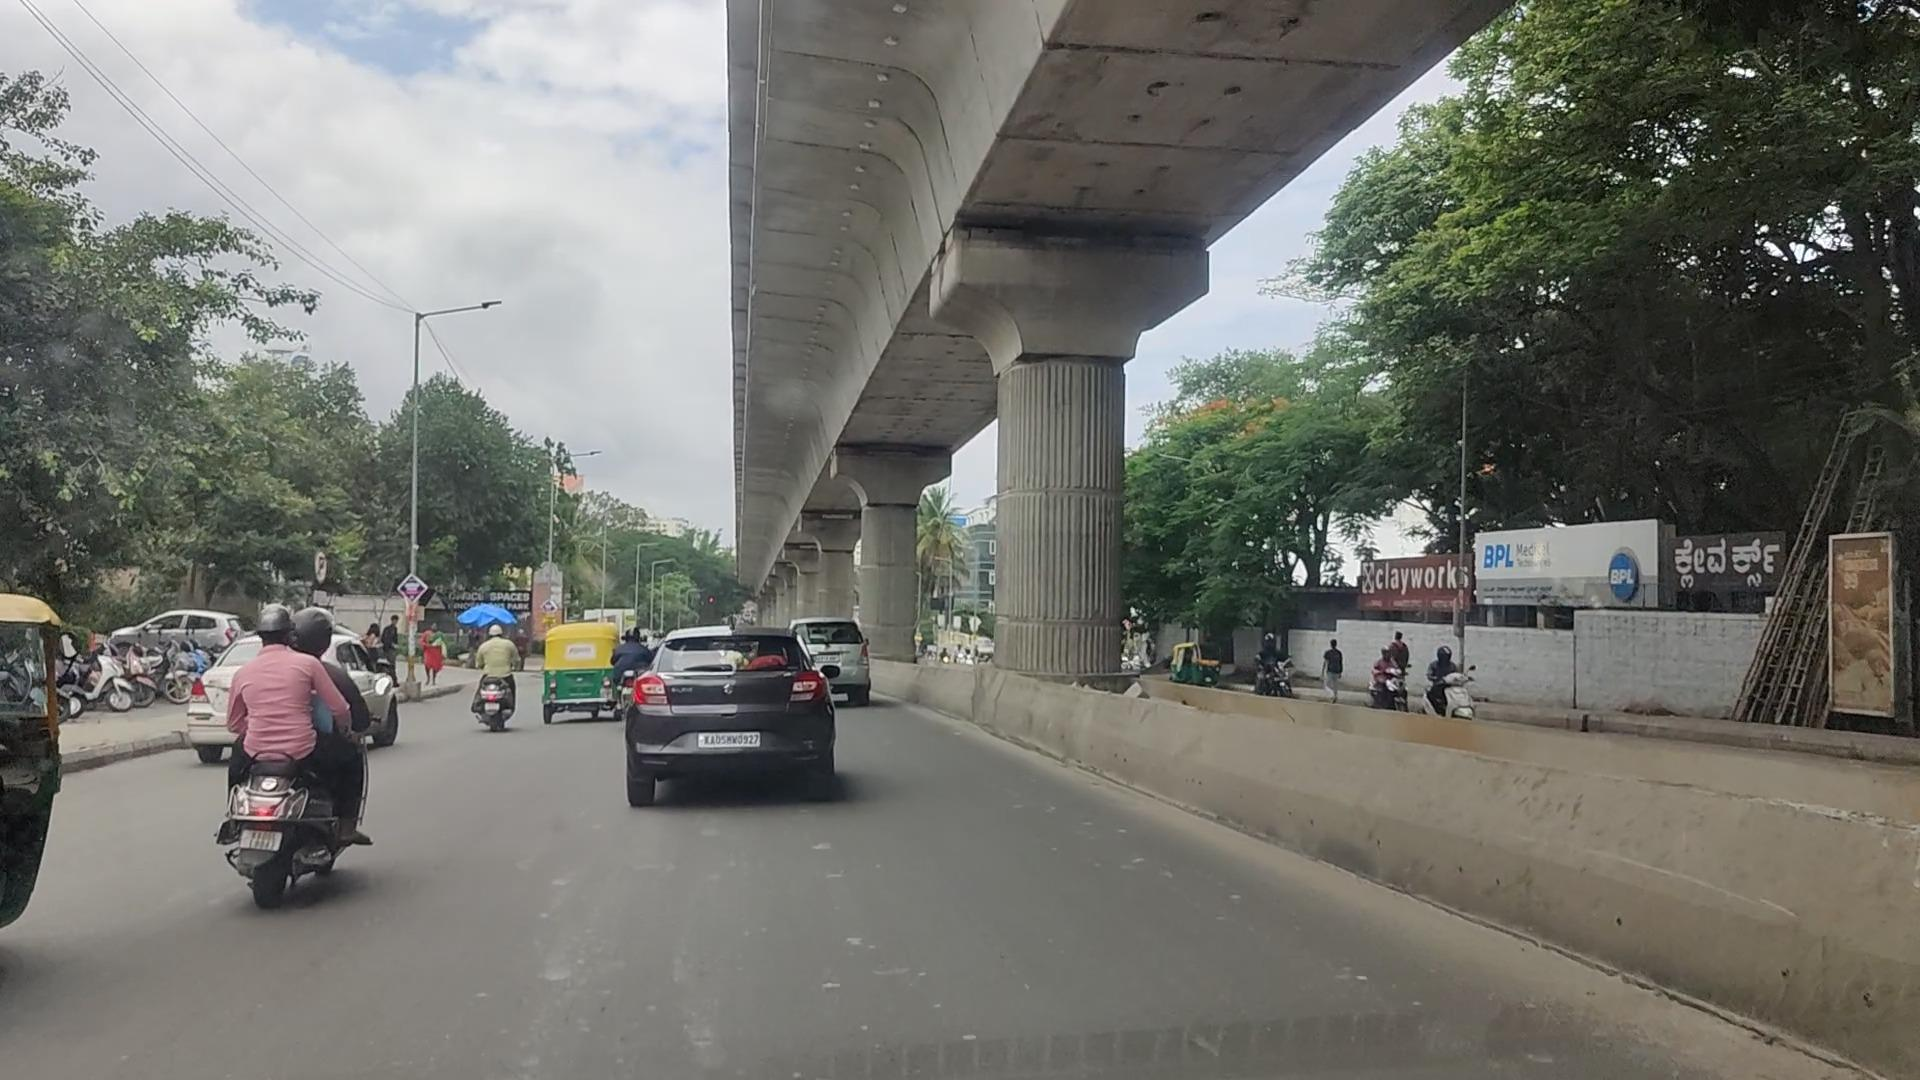LMV: (216, 587, 360, 938), (621, 620, 841, 806), (475, 622, 518, 727)
